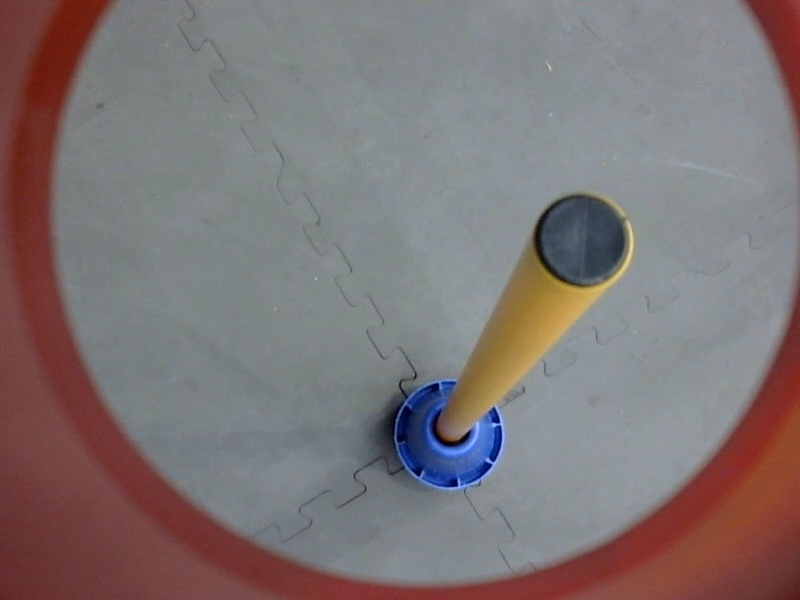tip: (529, 187, 637, 292)
